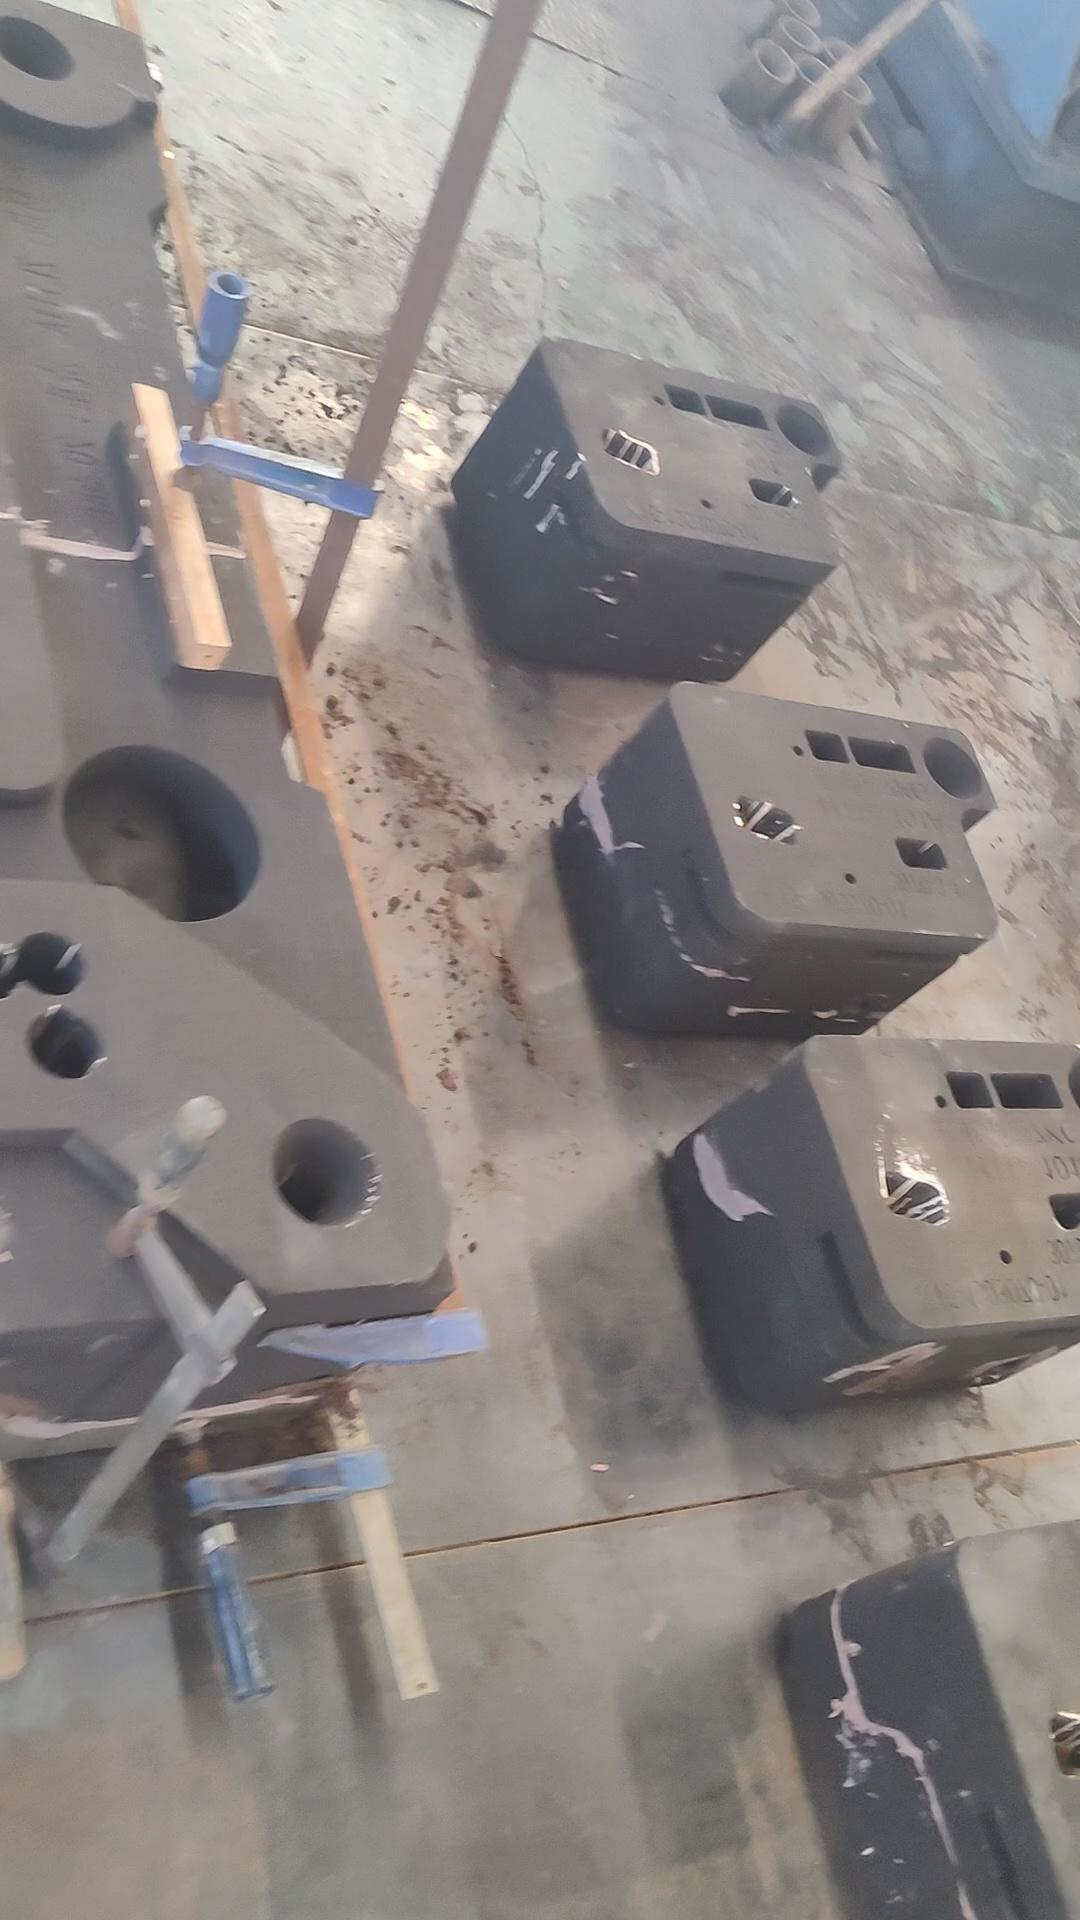pouring hole: (270, 1116, 376, 1225), (1, 13, 76, 80), (922, 737, 982, 800), (779, 404, 833, 458), (823, 36, 866, 73), (779, 15, 822, 50), (757, 40, 793, 80), (831, 67, 868, 100), (783, 1, 824, 26), (800, 58, 829, 88), (1067, 1048, 1080, 1110)
